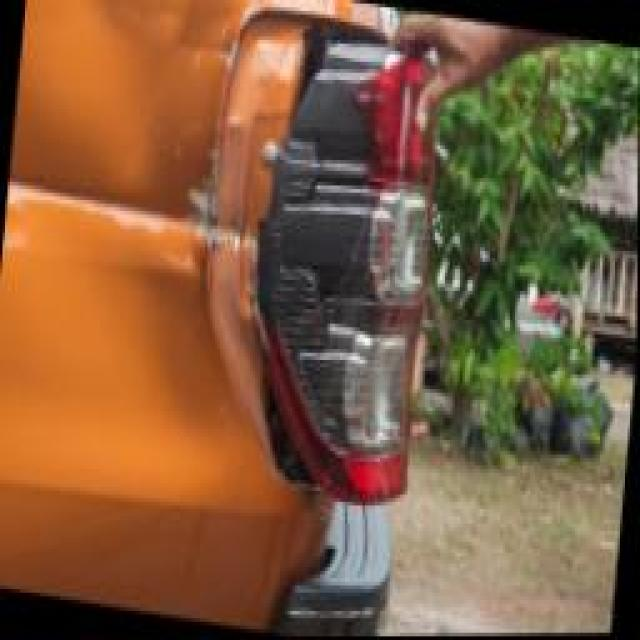Fender: (0, 80, 234, 333)
Light: (200, 15, 471, 508)
